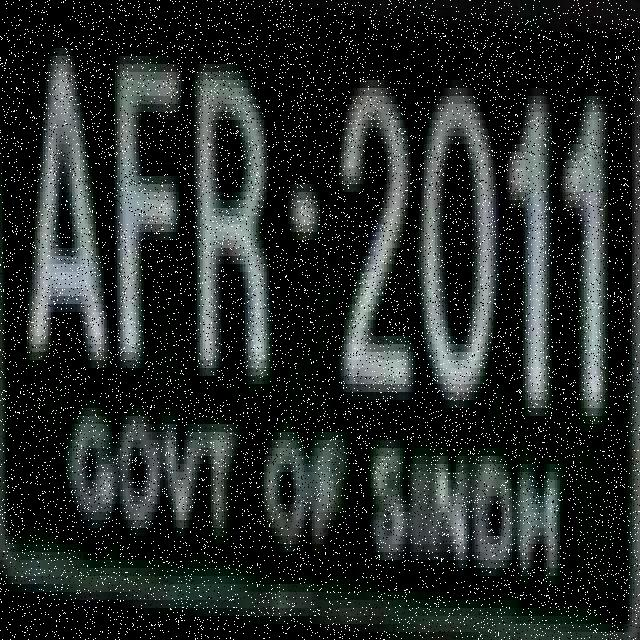licenseplate: (4, 2, 636, 628)
